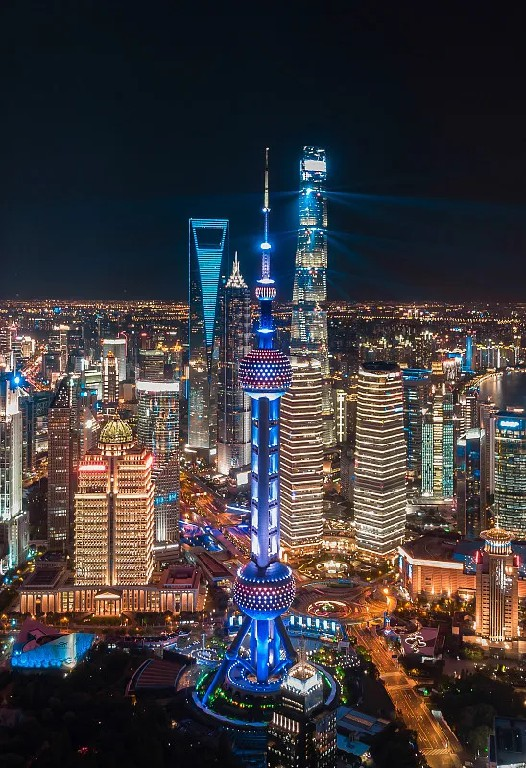Oriental: (204, 142, 296, 699)
